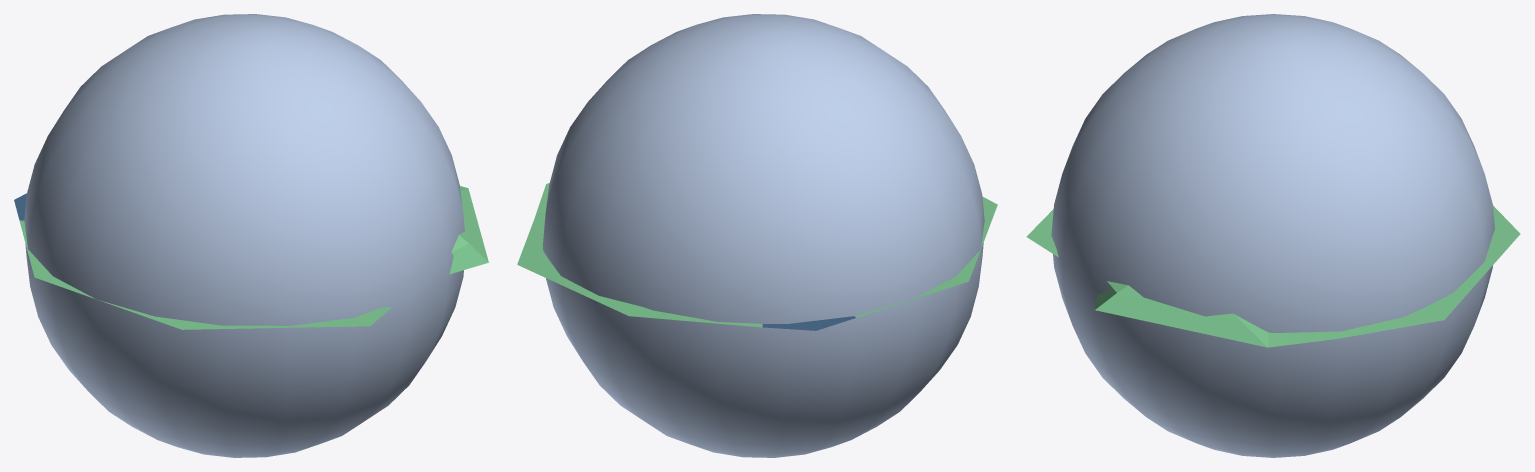
File: Chanchitos.fbx
3 renders of one model, left to right at view 1: azimuth 30°, elevation 25°; view 2: azimuth 150°, elevation 25°; view 3: azimuth 270°, elevation 25°, orthographic.
Visible parts, largest first — view 1: pSphere1, pCube1; view 2: pSphere1, pCube1; view 3: pSphere1, pCube1.
Boxes of the visible parts, x1,y1,x2,y2 form: pSphere1: [24, 14, 464, 457]; pCube1: [14, 186, 488, 329]; pSphere1: [543, 14, 984, 457]; pCube1: [517, 183, 997, 330]; pSphere1: [1051, 14, 1494, 457]; pCube1: [1026, 205, 1520, 347].
Size of the model in its own units: 6543 by 5883 by 6546.
